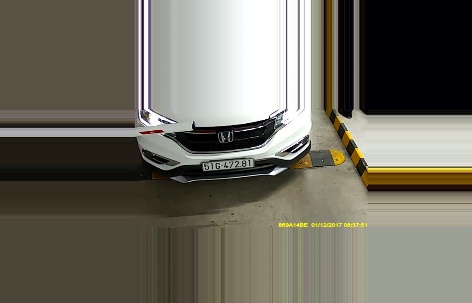plate: (201, 158, 255, 174)
